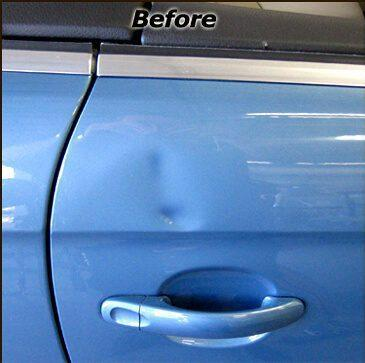dent: (117, 129, 223, 258)
